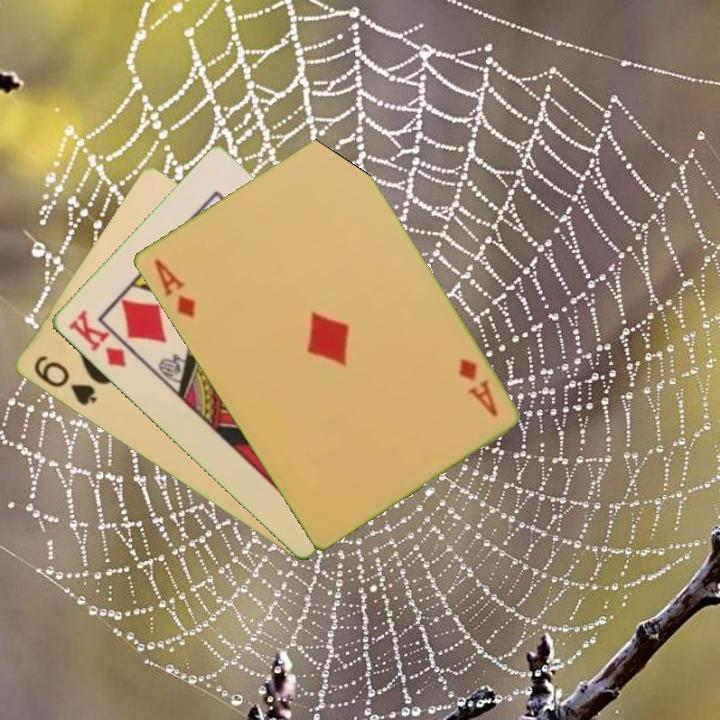6s: (29, 352, 100, 409)
Ad: (150, 255, 198, 321), (454, 354, 500, 420)
Kd: (64, 306, 129, 370)
